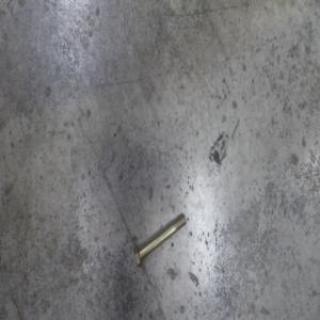Bolttrack_idkeyframe: (132, 210, 186, 271)
